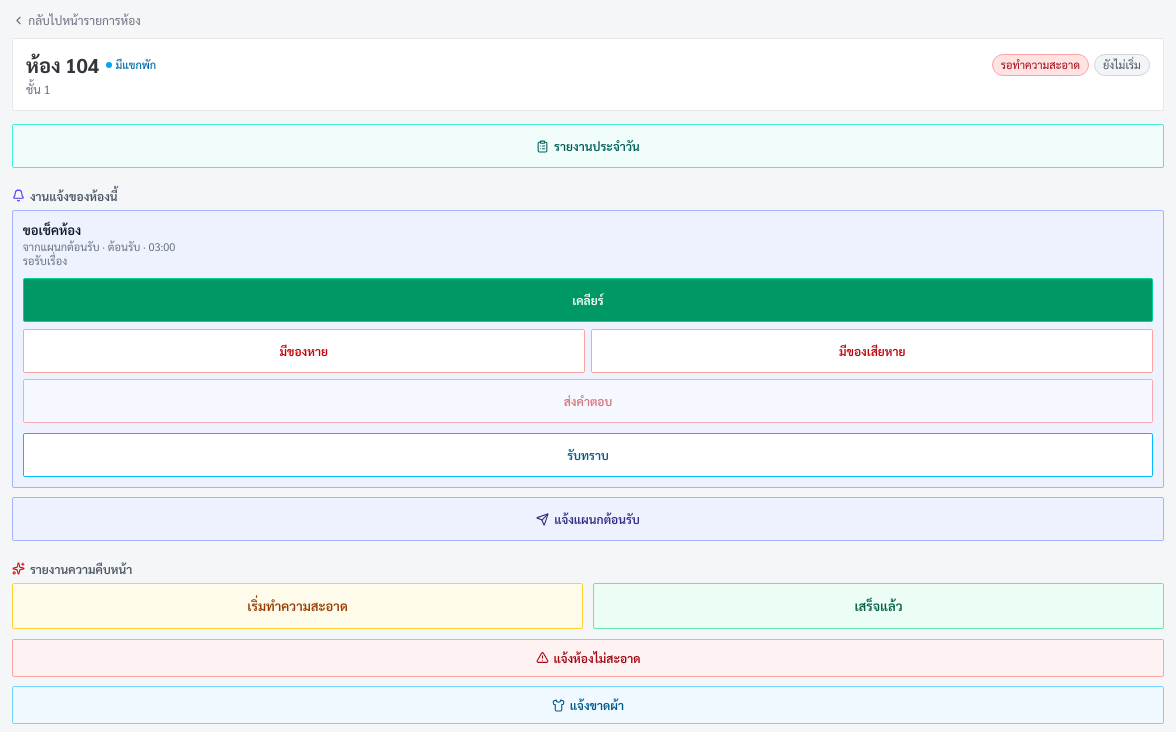
Test: maid — ขอเช็คห้อง answer flow › ส่งคำตอบ is dead until a problem is toggled on
Expected: the heading "ห้อง 104" is shown, [26,52,99,78]
Expected: the button "ส่งคำตอบ" is disabled, [23,379,1153,423]
Click the button "มีของหาย" at (304, 351), box [23,329,585,373]
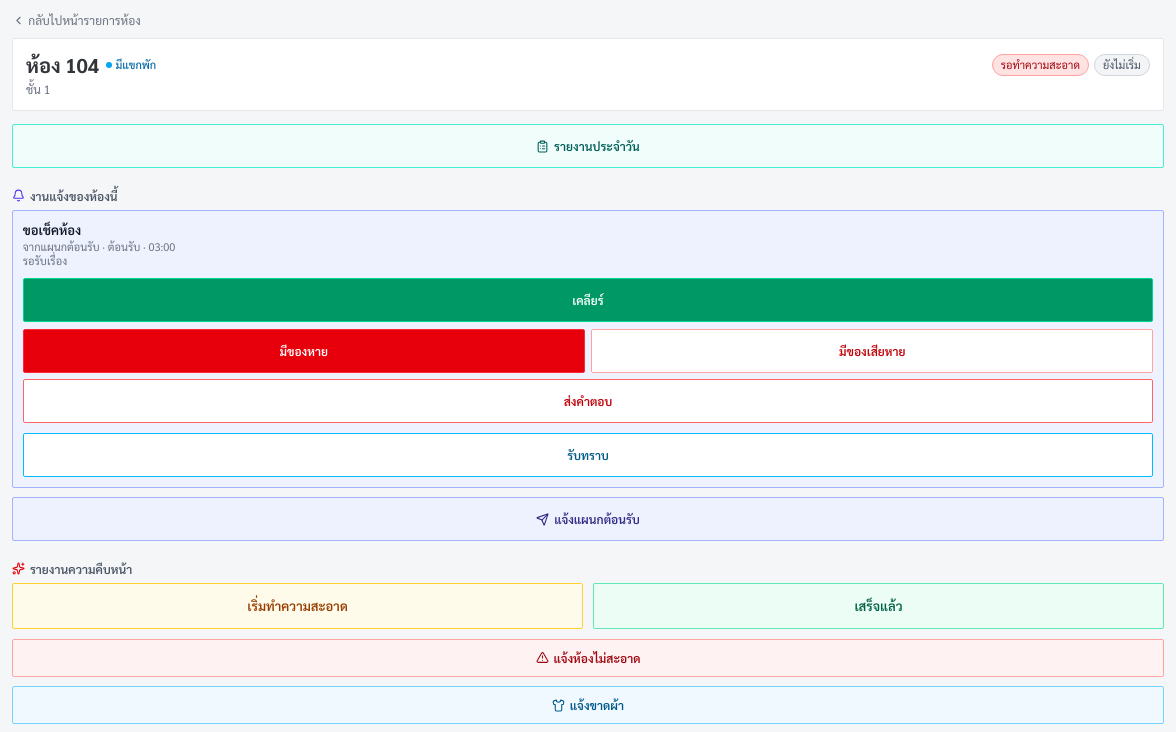
Expected: the button "ส่งคำตอบ" is enabled, [23,379,1153,423]
Click the button "มีของหาย" at (304, 351), box [23,329,585,373]
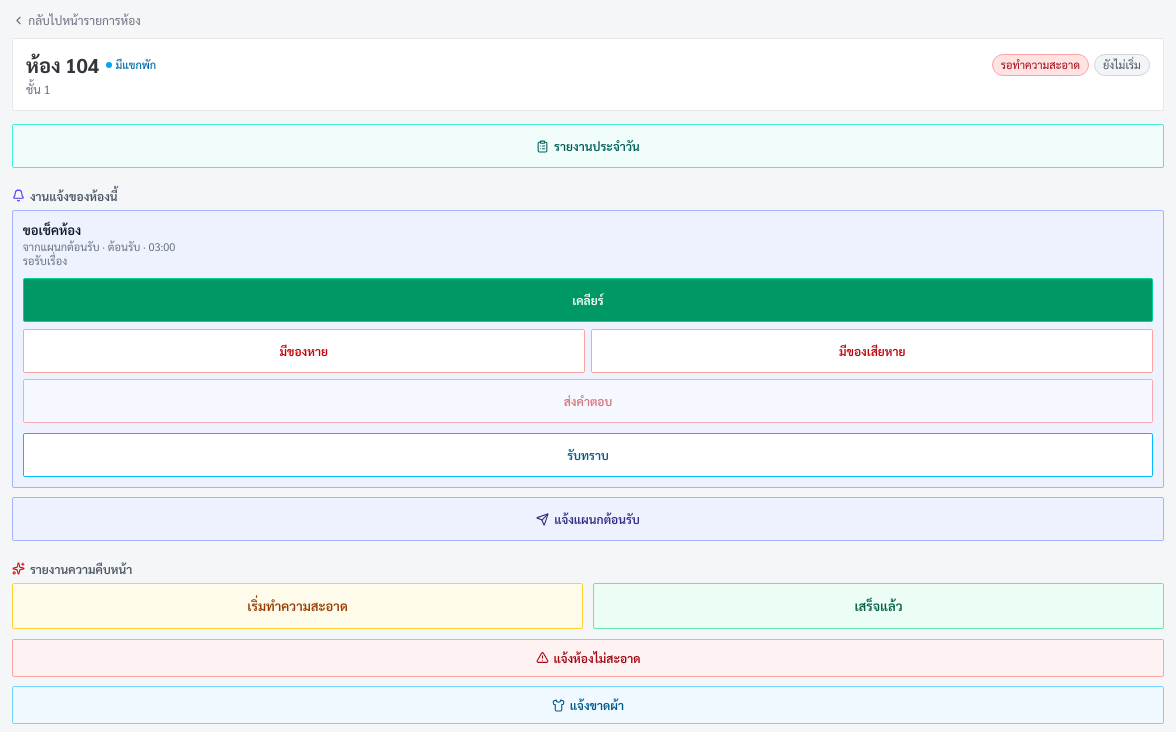
Expected: the button "ส่งคำตอบ" is disabled, [23,379,1153,423]
